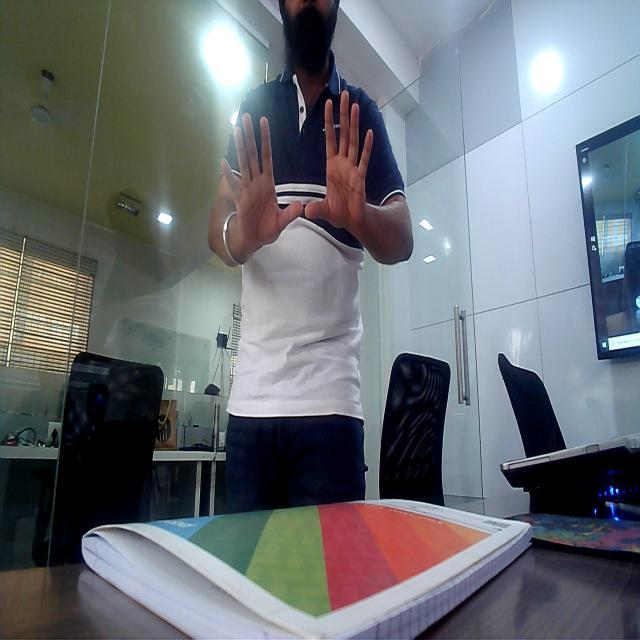without_gloves: (216, 100, 307, 264), (292, 80, 392, 219)
